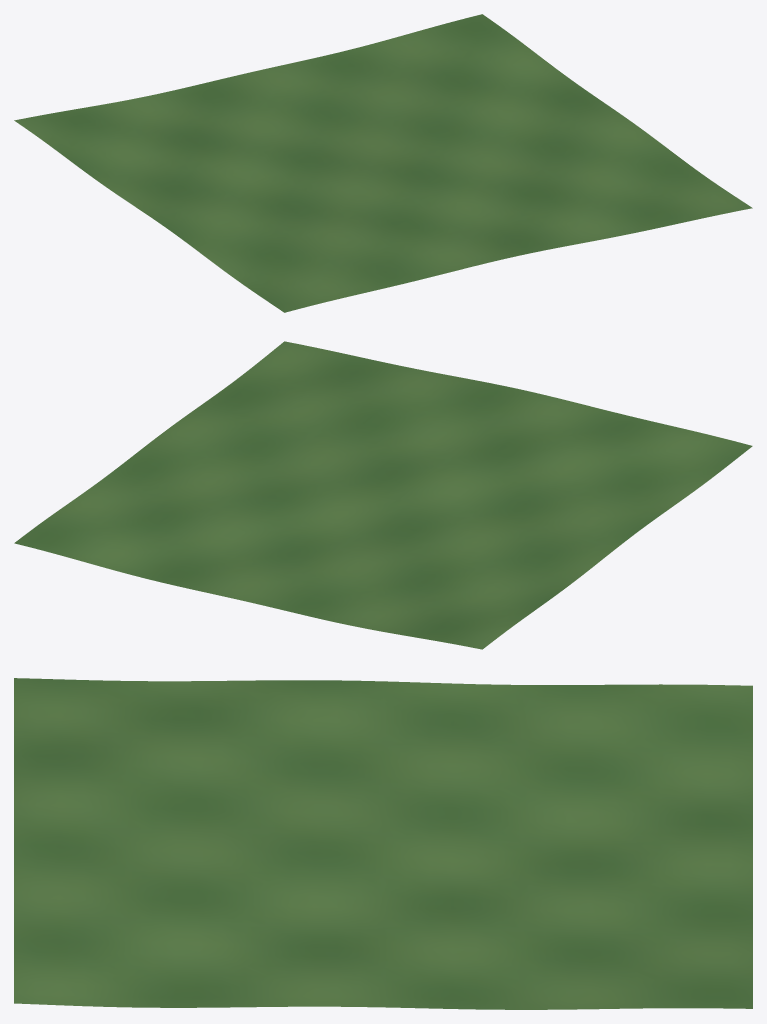
The model's file is chunk_7_1.glb.
3 views of the same model, one above another, from view 1: azimuth 30°, elevation 25°; view 2: azimuth 150°, elevation 25°; view 3: azimuth 270°, elevation 25° (orthographic). The views are drawn at different scales.
Bounding box in the file's own units: 512 × 18.35 × 512.
